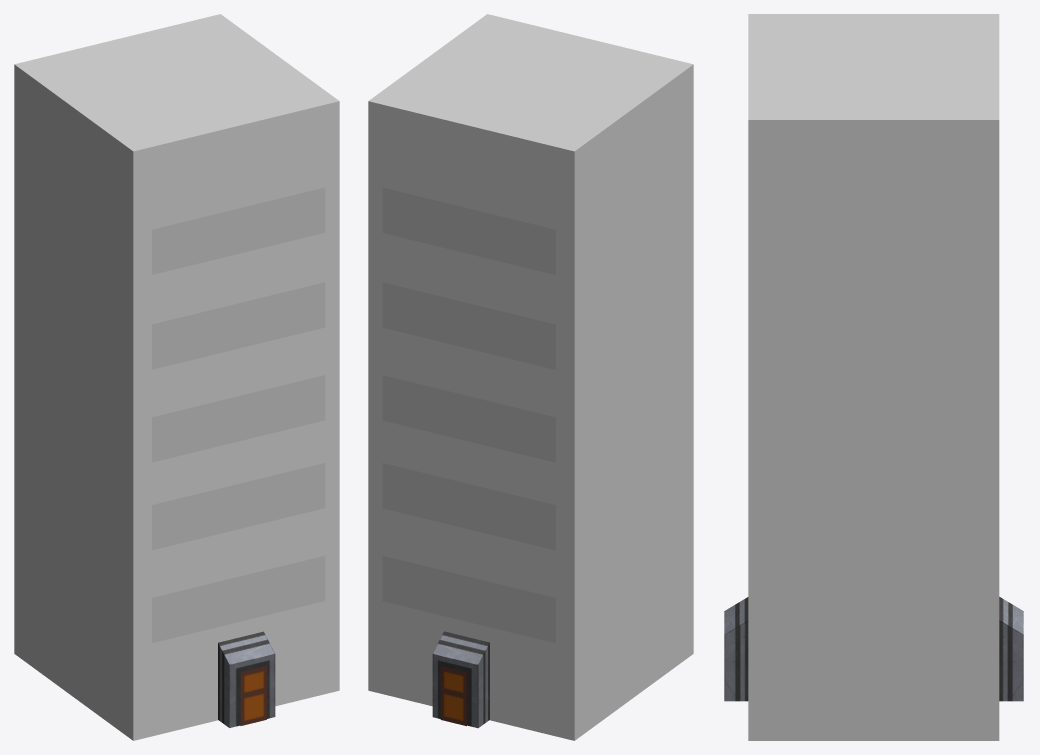
File: building3_1.fbx
3 renders of one model, left to right at view 1: azimuth 30°, elevation 25°; view 2: azimuth 150°, elevation 25°; view 3: azimuth 270°, elevation 25°, orthographic. The views are drawn at different scales.
Parts seen in each view (by area): view 1: Cube.054, 1.018, 1.013, 1.017, 1.014, 1.016, 1.073; view 2: Cube.054, 1.016, 1.014, 1.017, 1.018, 1.013, 1.073; view 3: Cube.054, 1.073.
Boxes of the visible parts, bbox=[...] form: Cube.054: bbox=[14, 14, 339, 740]; 1.018: bbox=[152, 187, 325, 274]; 1.013: bbox=[152, 555, 325, 642]; 1.017: bbox=[152, 282, 325, 369]; 1.014: bbox=[152, 463, 325, 550]; 1.016: bbox=[152, 375, 325, 462]; 1.073: bbox=[218, 631, 275, 727]; Cube.054: bbox=[368, 14, 693, 740]; 1.016: bbox=[382, 375, 555, 462]; 1.014: bbox=[382, 463, 555, 550]; 1.017: bbox=[382, 282, 555, 369]; 1.018: bbox=[382, 187, 555, 274]; 1.013: bbox=[382, 556, 555, 643]; 1.073: bbox=[432, 631, 489, 728]; Cube.054: bbox=[748, 14, 999, 740]; 1.073: bbox=[724, 597, 1023, 701].
Size of the model in its own units: 318 by 869 by 385.
